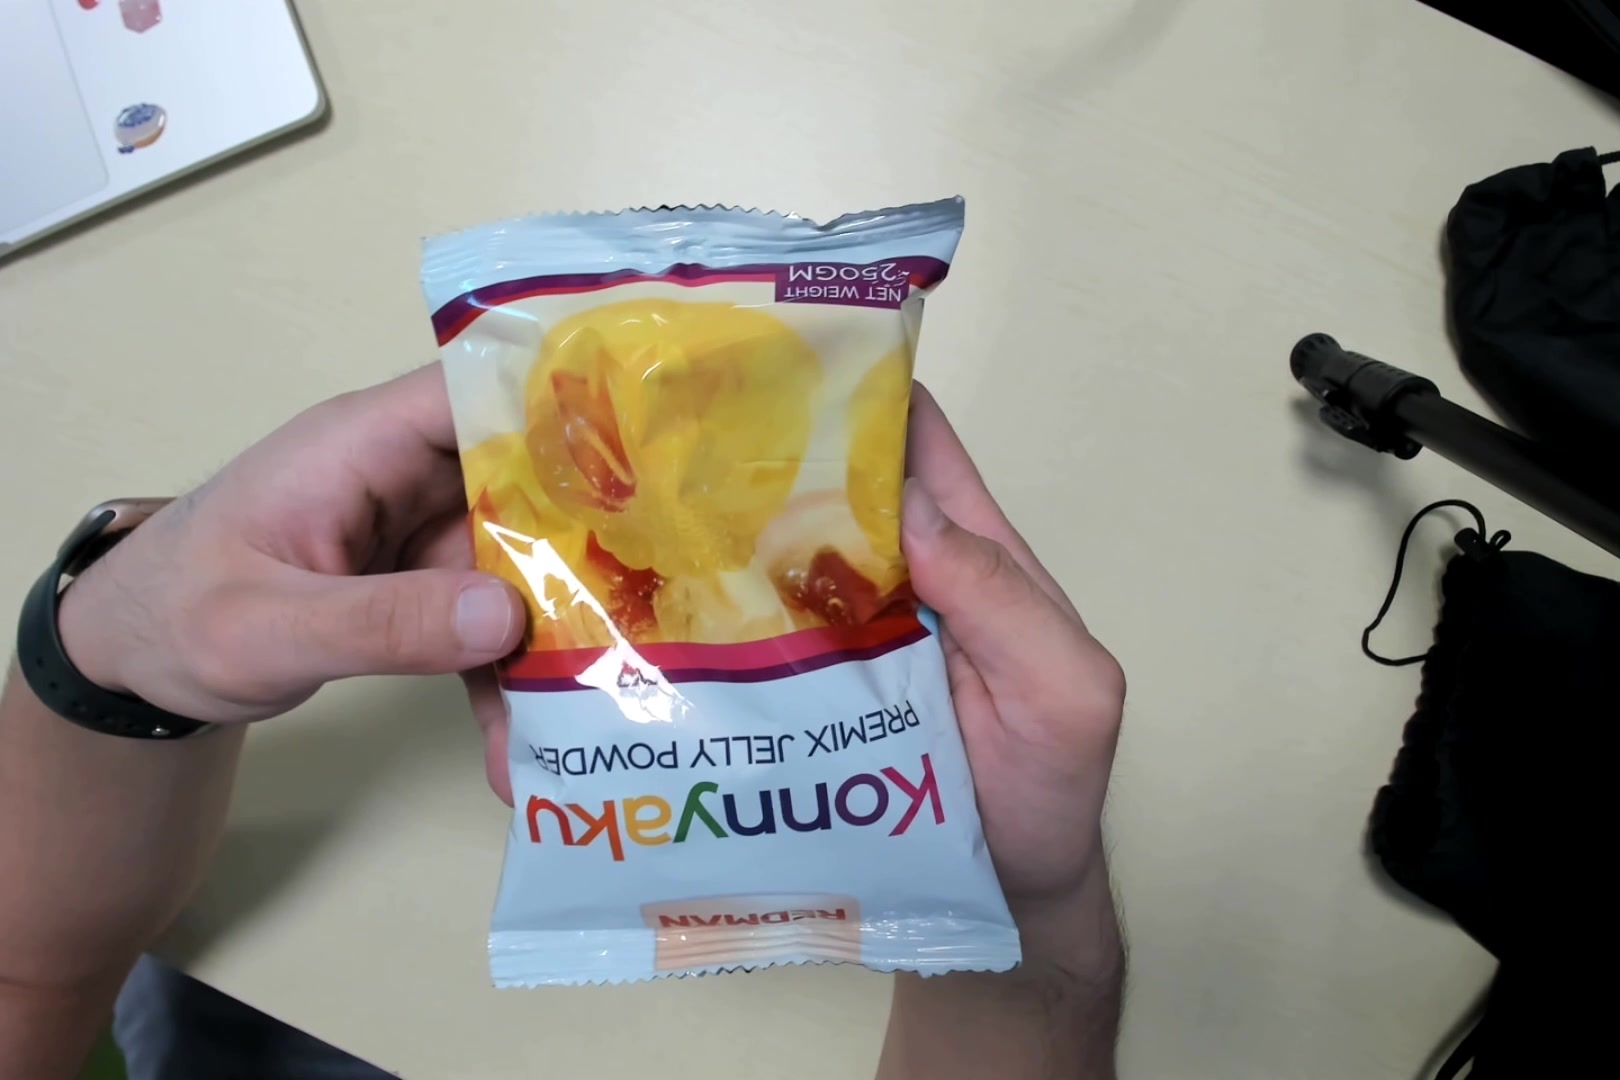OtherBakingNeeds_200-299g_Halal_NonHealthy: (418, 209, 1025, 985)
